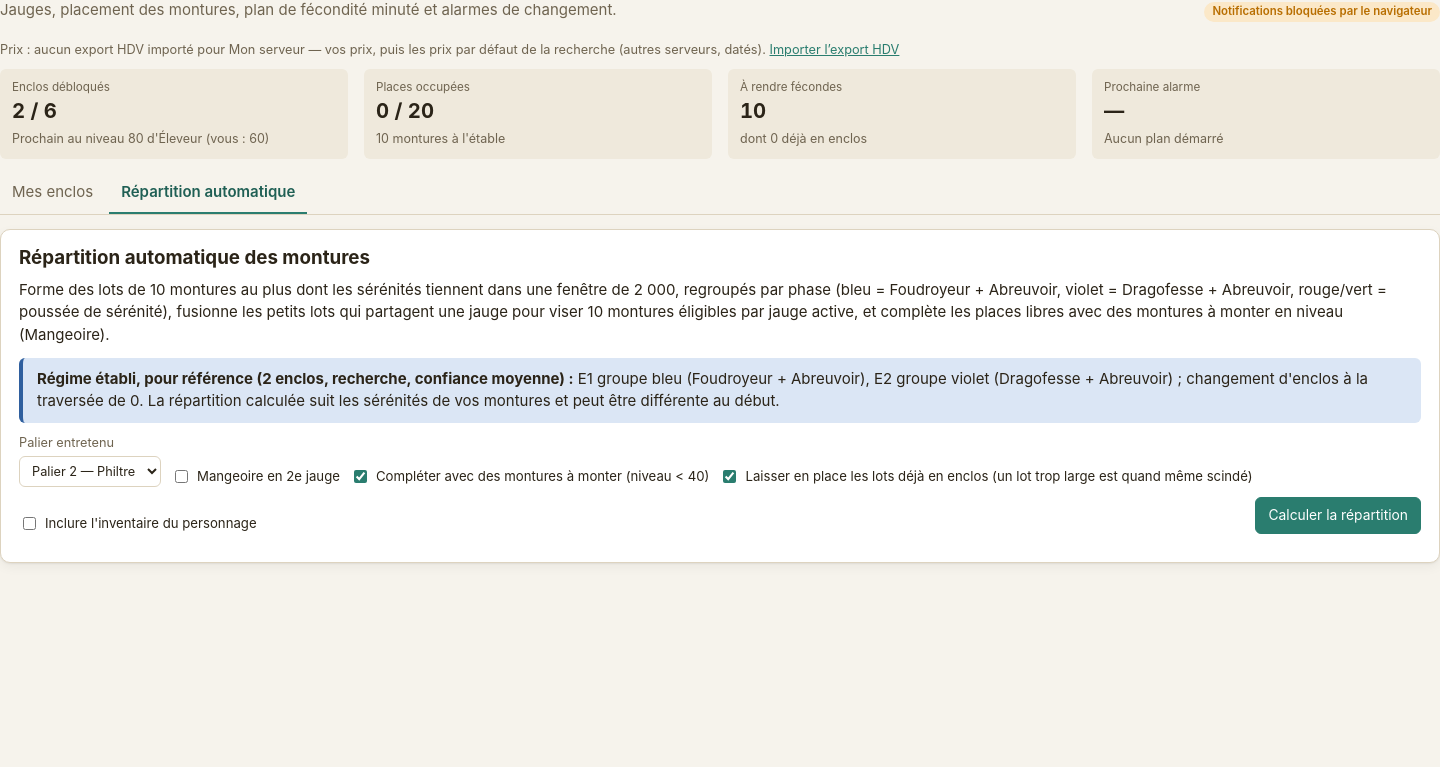
Enclos — répartition automatique (ux F18, ux F21) › organisation type en référence avant le calcul, repliée après ; déplacements enregistrés gardés en liste avec lien de démarrage
Expected: the text "Régime établi, pour référence" is shown, [37,369,262,388]
Step 1. Click the button "Calculer la répartition" → (1338, 515), box [1256,497,1421,534]
(page scrolled)
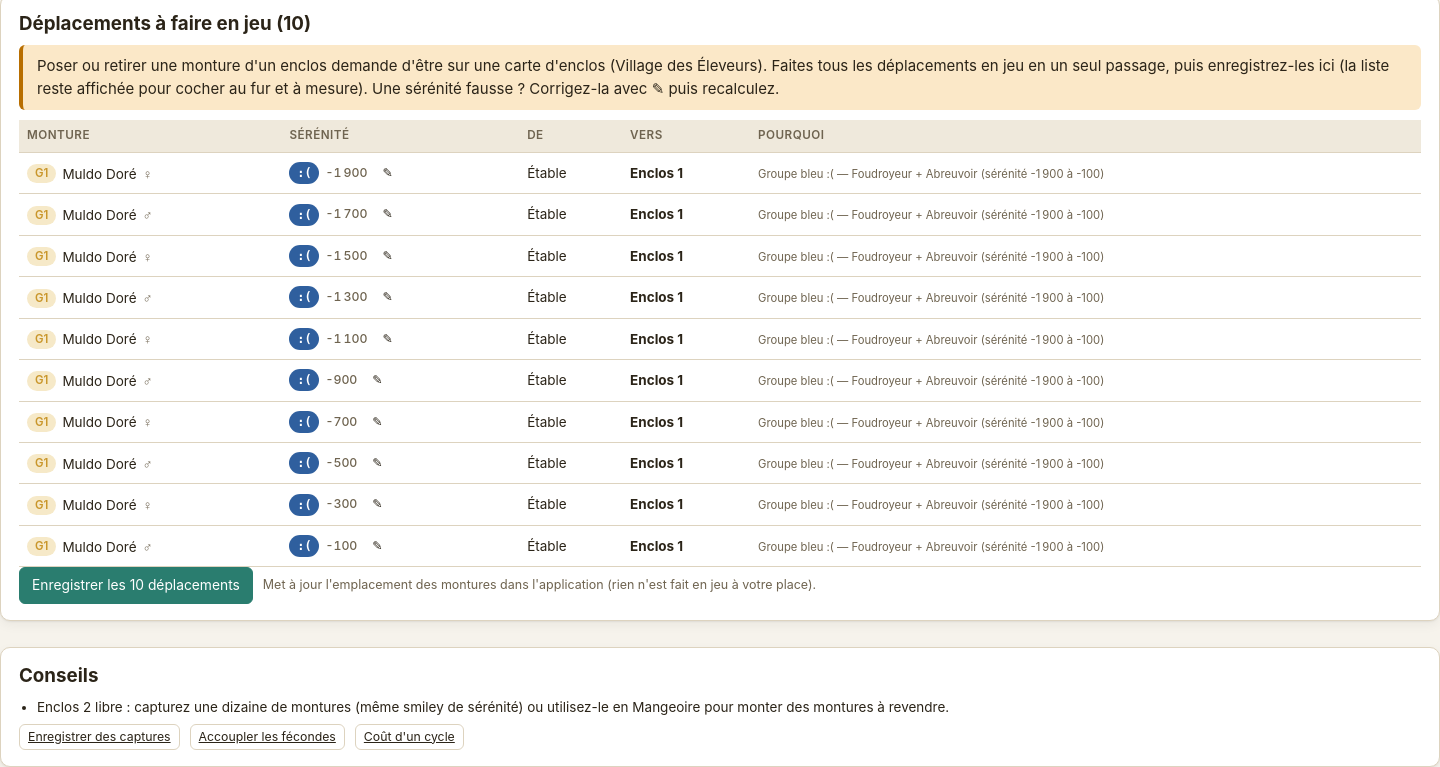
Expected: the text "Régime établi, pour référence" is gone
Expected: the element showing "Monture Sérénité De Vers Pourquoi" is shown, [19,120,1421,152]
Step 2. Click the button "Enregistrer les 10 déplacements" → (136, 586), box [19,567,253,604]
(page scrolled)
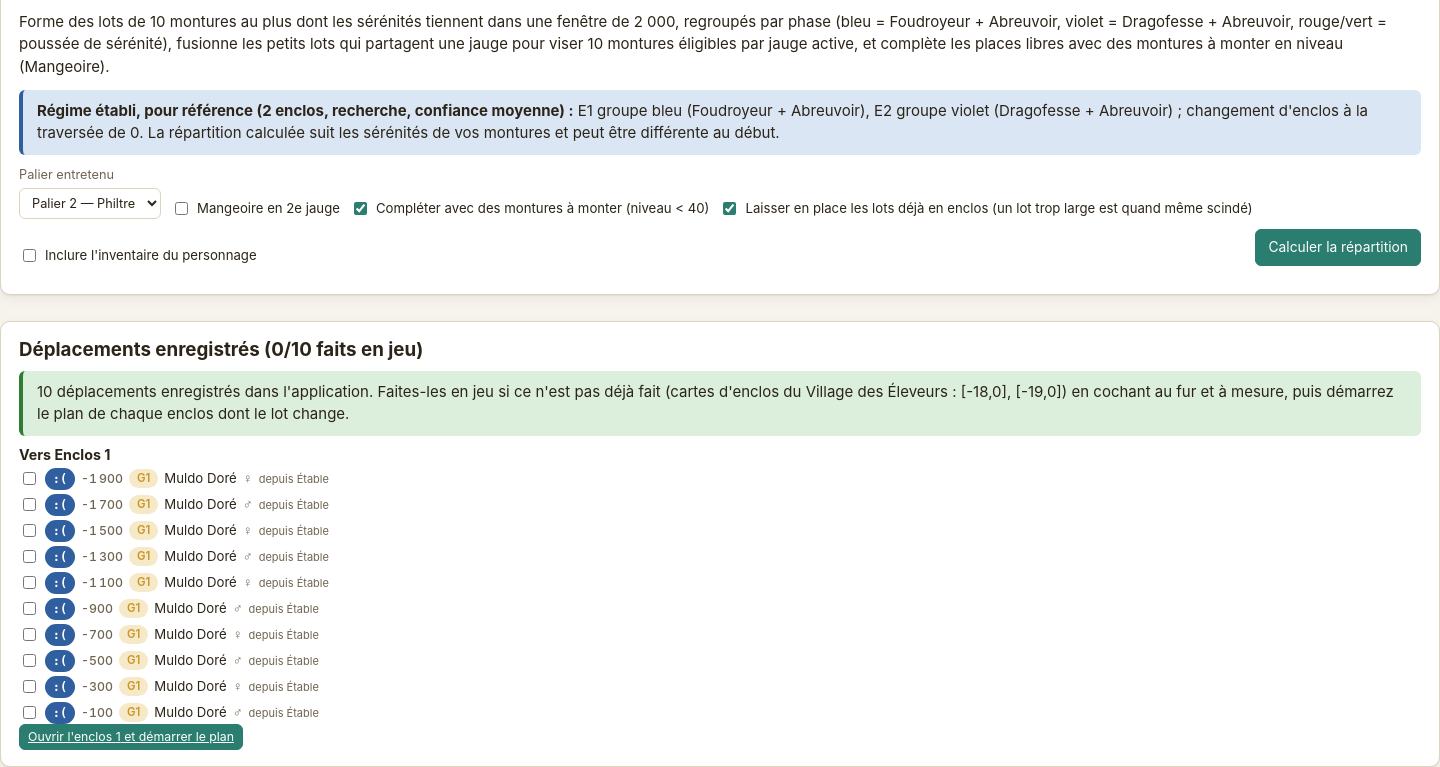
Expected: the heading "Déplacements enregistrés (0/10 faits en jeu)" is shown, [19,338,423,361]
Step 3. Click the checkbox labelled ":( -1 900 G1 Muldo Doré ♀ depuis Étable" → (30, 479), box [23,472,36,485]
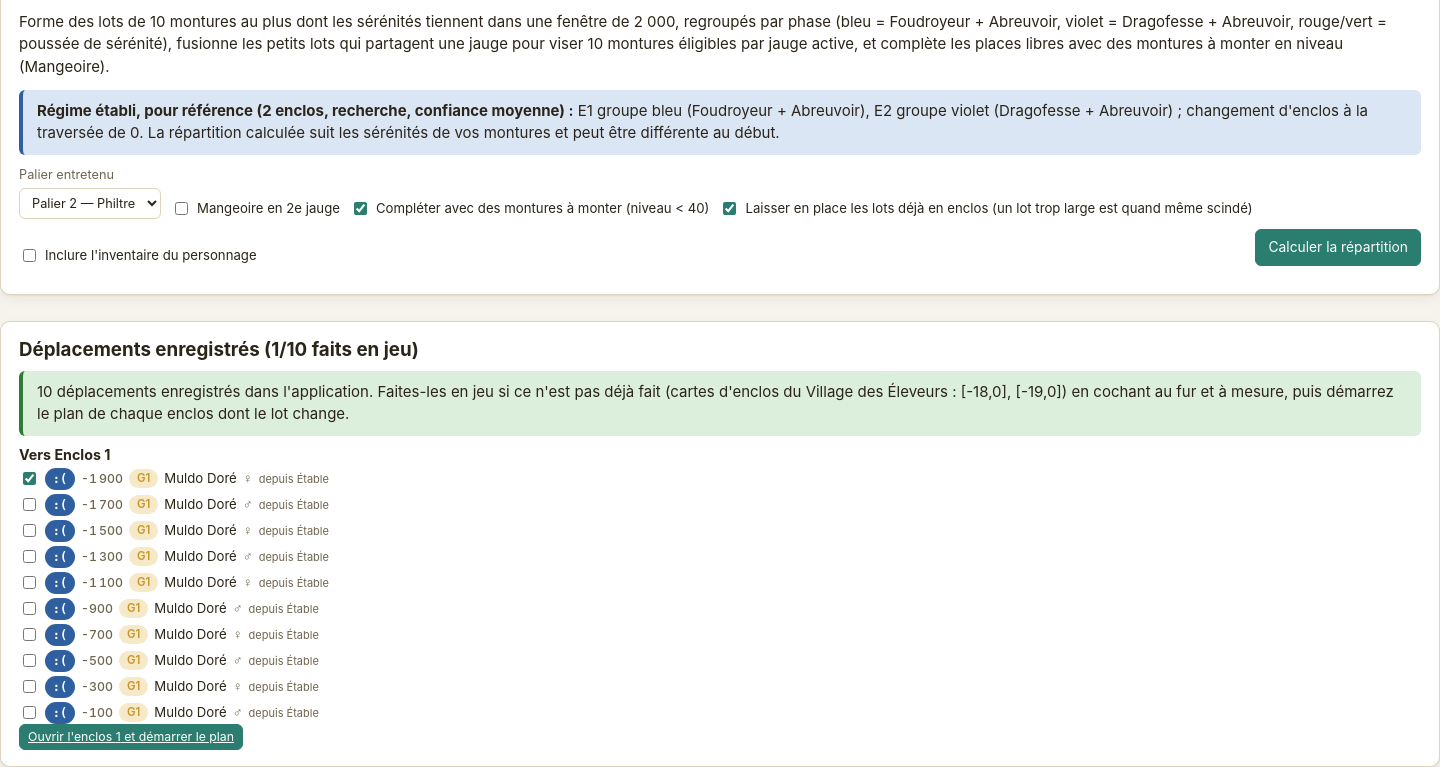
Expected: the heading "Déplacements enregistrés (1/10 faits en jeu)" is shown, [19,338,419,361]
